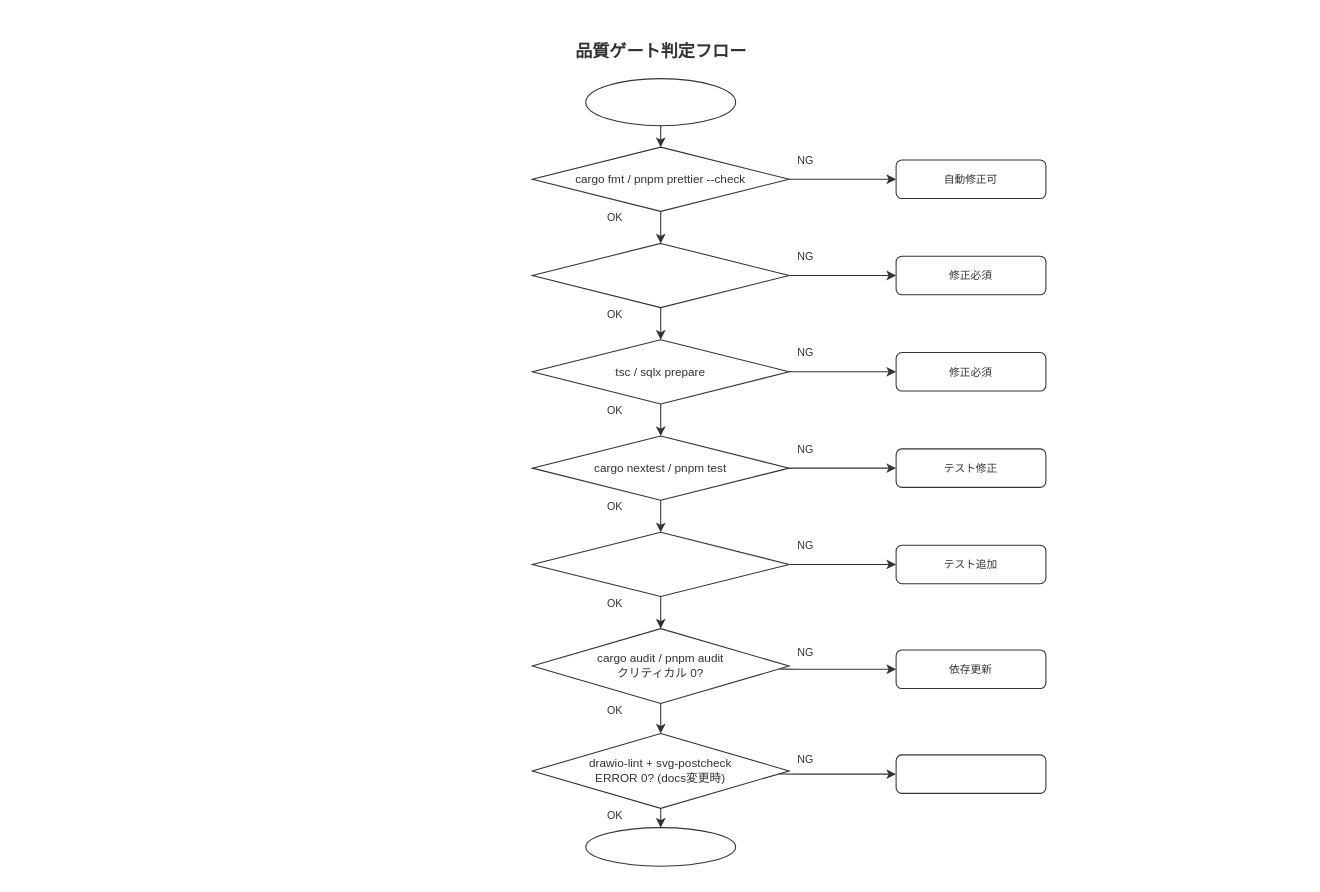
Some shapes in this 1320 by 892 pixel diagram are drawn without their labels. Each missing label, with the box of its shape:
cargo clippy / eslint: (531, 242, 789, 308)
CI 通過: (585, 827, 736, 866)
カバレッジ >= 80%/75%?: (531, 531, 789, 597)
コード変更: (585, 78, 736, 126)
図修正: (895, 754, 1046, 793)
